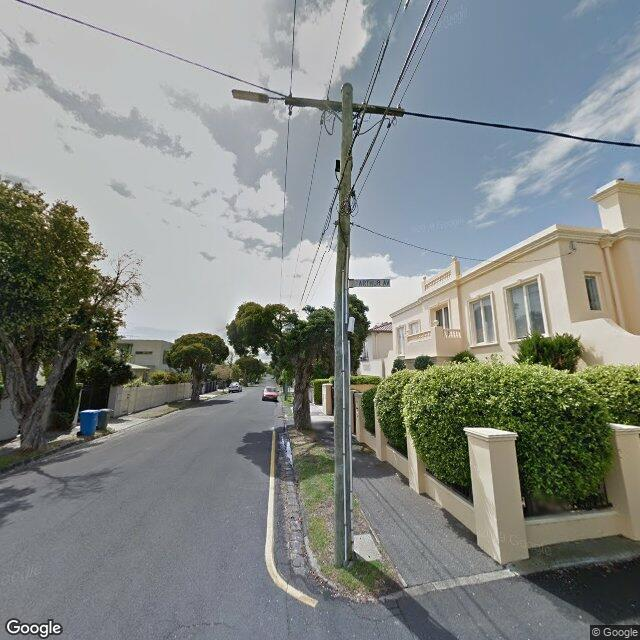crossarm: (284, 96, 405, 116)
streetlight: (232, 89, 285, 104)
timber-pole: (334, 82, 354, 568)
